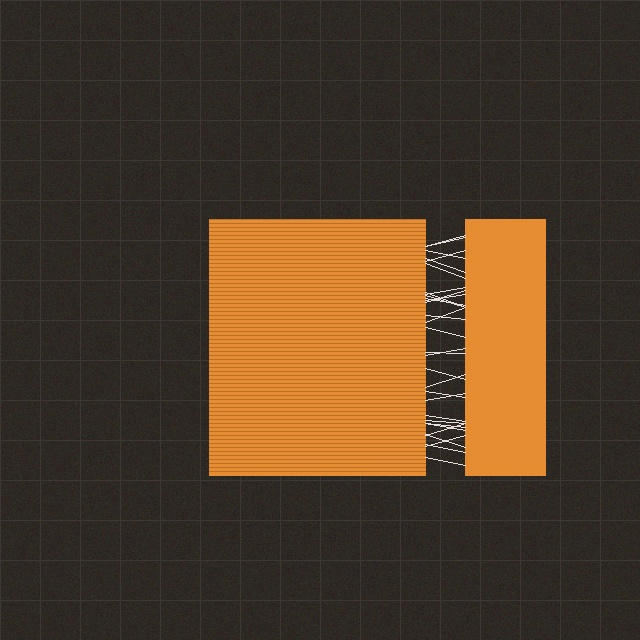stringing: (420, 219, 470, 475)
